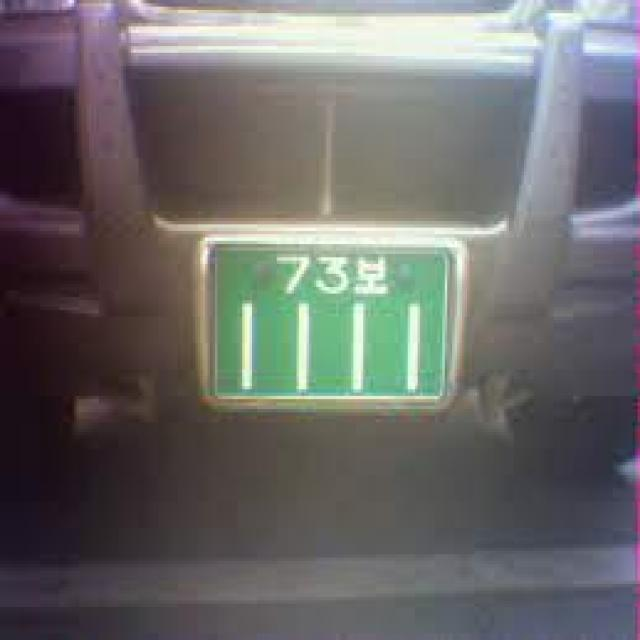illegal_plate: (186, 219, 475, 429)
